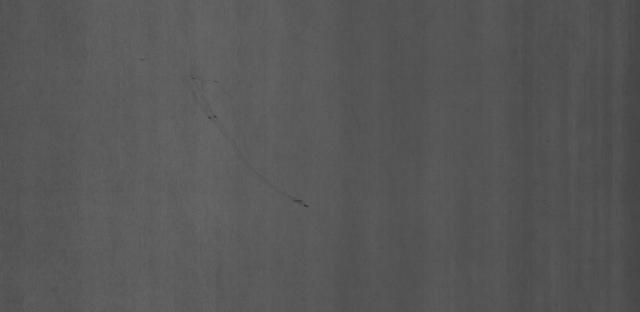water_spot: (192, 63, 314, 225)
